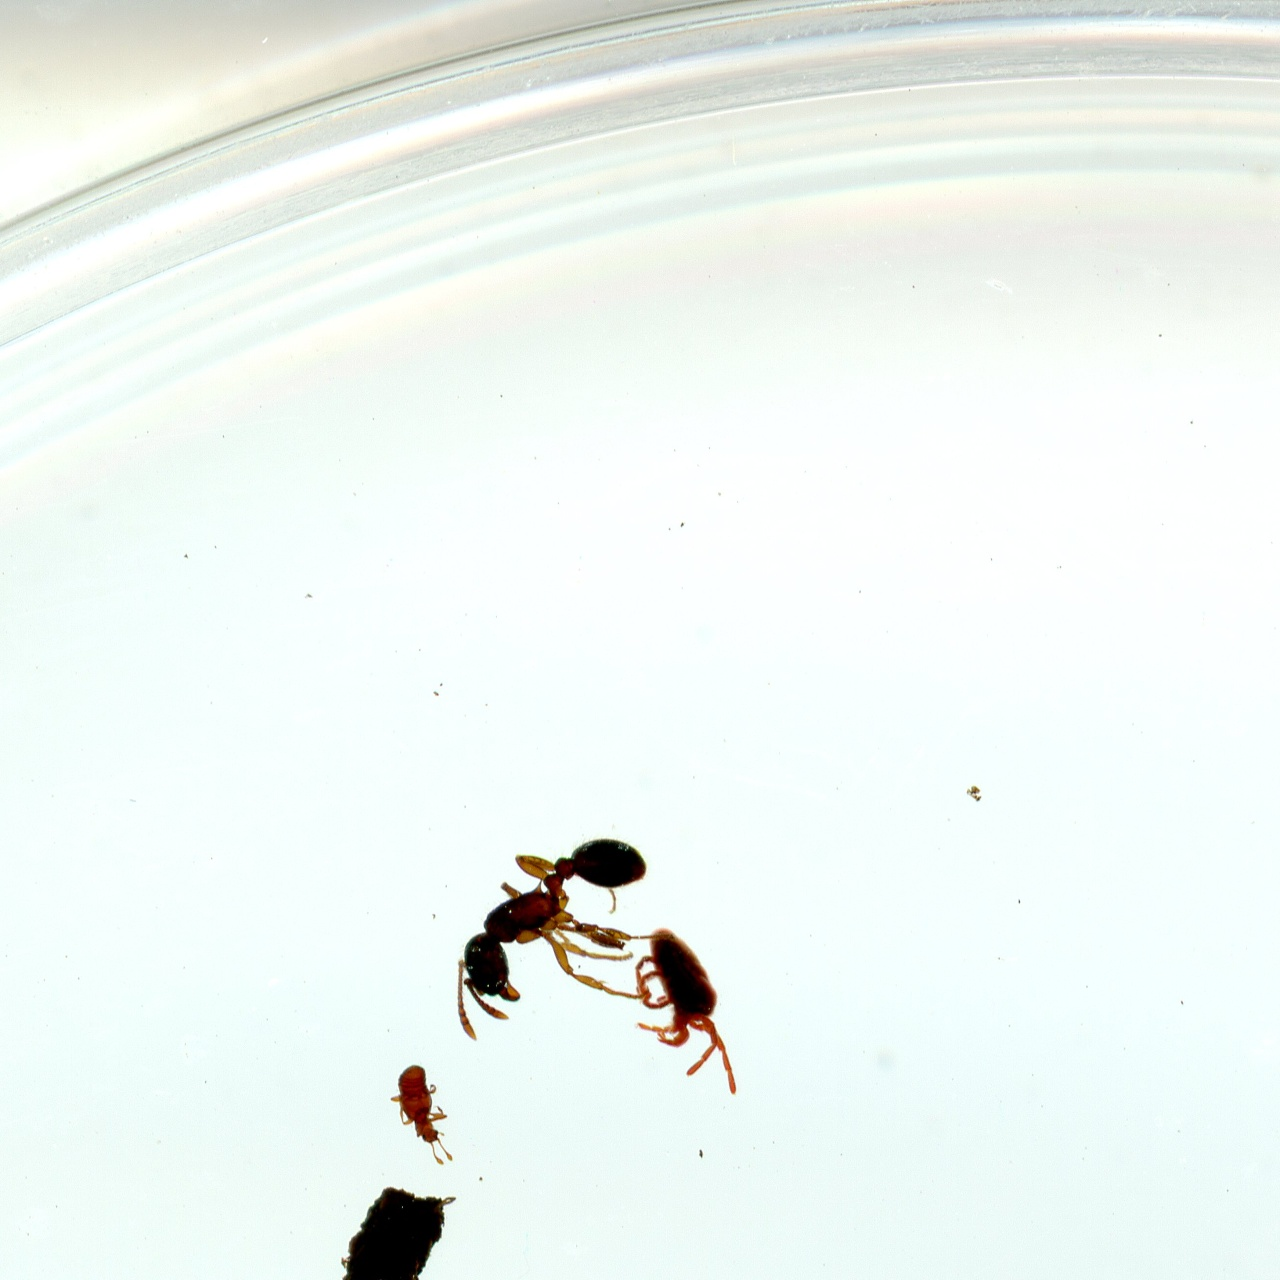arthropod: (453, 833, 661, 1041), (619, 920, 741, 1099), (381, 1057, 460, 1176)
